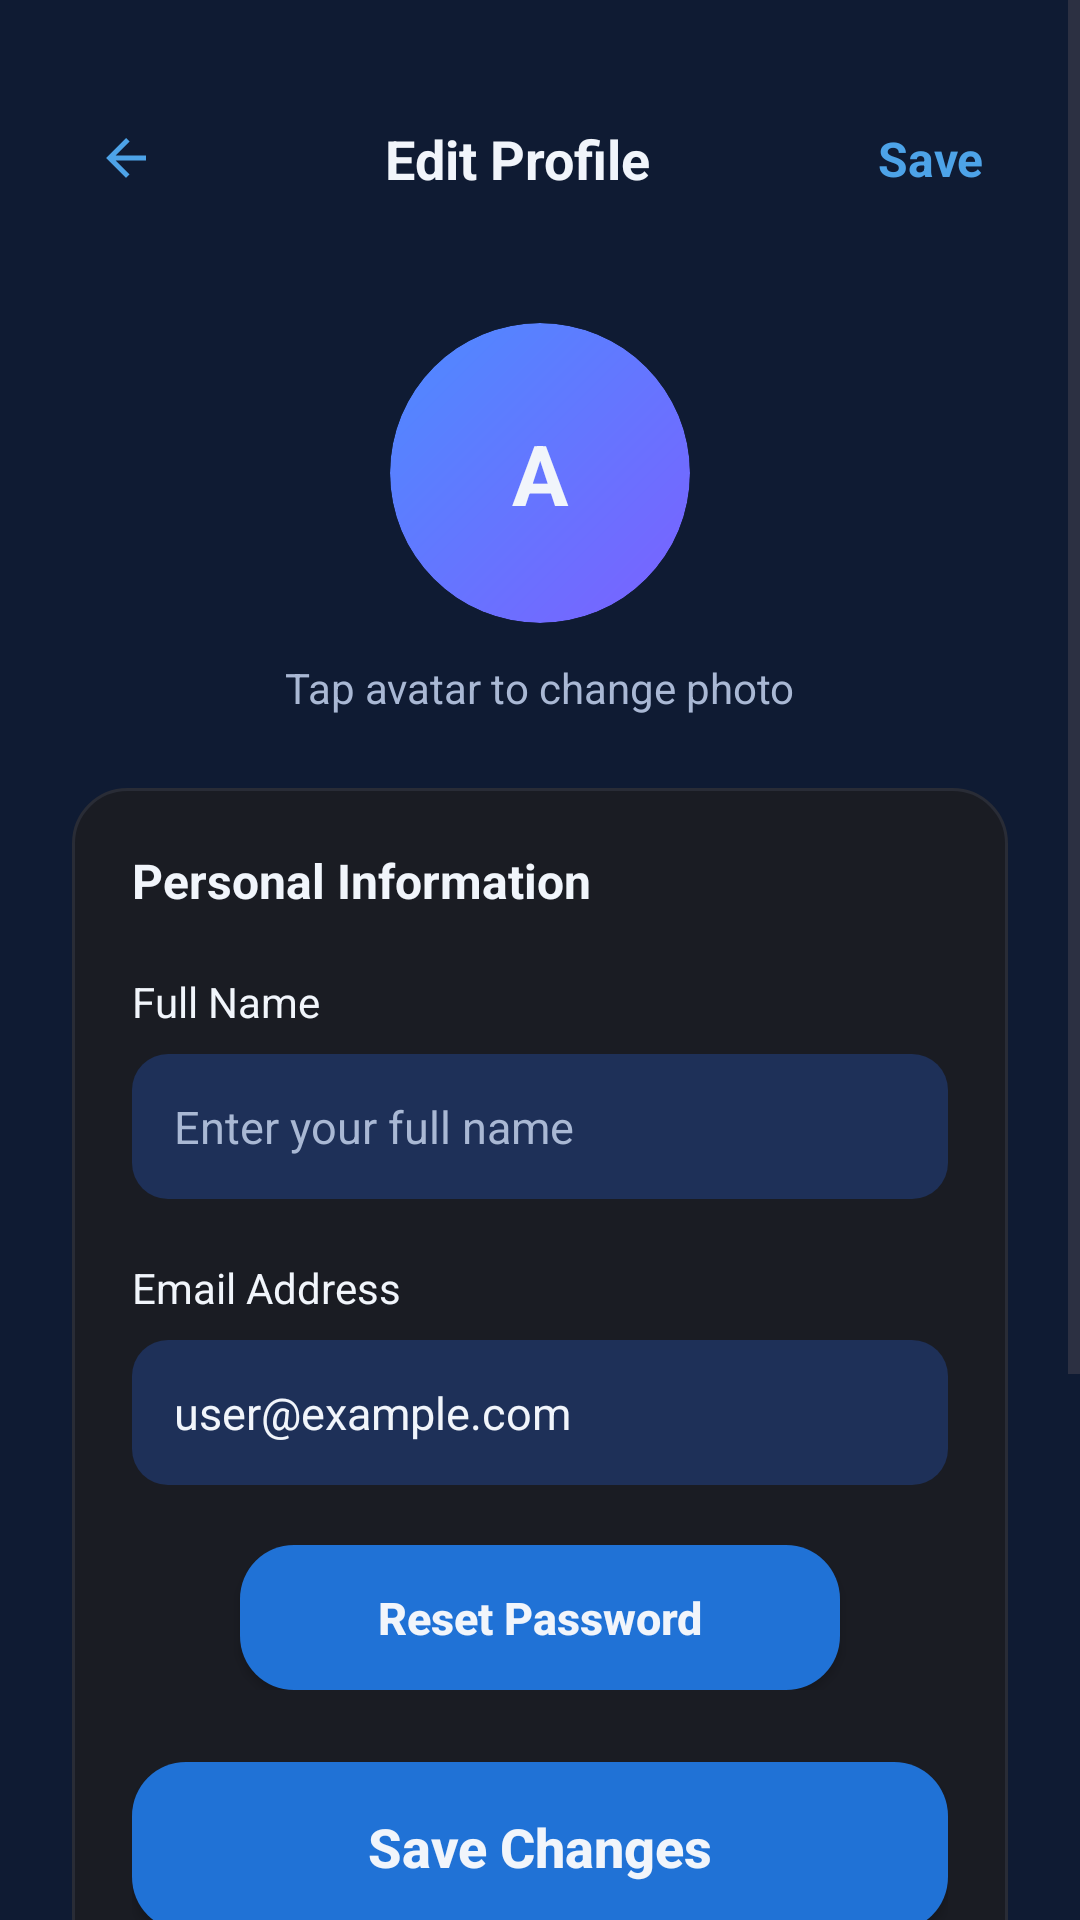

Where to tap for icons on this 1080×1920 app screen, as [x,y]:
arrow back: [126,158]
